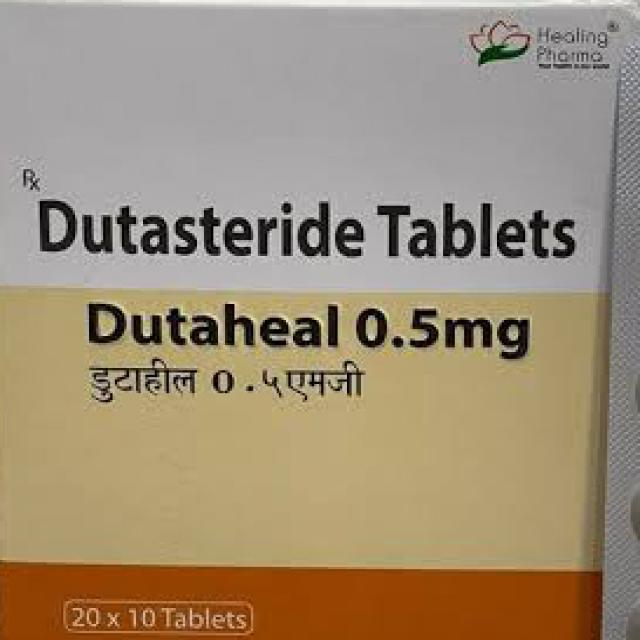drug-name: (84, 301, 535, 363)
